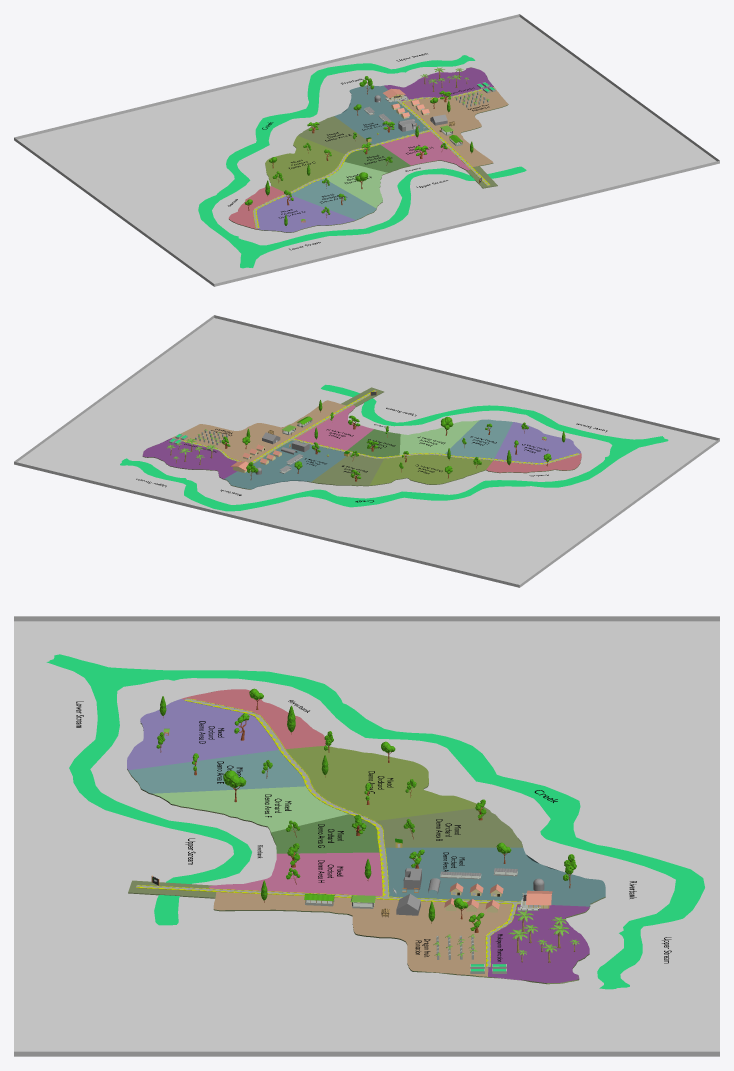
The model's file is map.glb.
The picture shows the model from 3 angles, top to bottom: view 1: azimuth 30°, elevation 25°; view 2: azimuth 150°, elevation 25°; view 3: azimuth 270°, elevation 25°; orthographic projection. The views are drawn at different scales.
Parts seen in each view (by area): view 1: Background, riverbank, dragonFruit, areaA, areaC, areaD, makapuno, areaE, areaH, areaF, areaB, Base (+2 smaller); view 2: Background, riverbank, dragonFruit, areaA, areaC, areaD, makapuno, areaE, areaH, areaF, Base, areaB (+2 smaller); view 3: Background, riverbank, dragonFruit, areaA, areaC, areaD, makapuno, areaE, areaH, areaF, areaB, Base (+3 smaller).
Part boxes in pixels (left/top/right/bottom): Background: left=14, top=14, right=719, bottom=286; riverbank: left=198, top=55, right=526, bottom=268; dragonFruit: left=403, top=87, right=508, bottom=169; areaA: left=334, top=85, right=428, bottom=144; areaC: left=265, top=136, right=344, bottom=191; areaD: left=256, top=195, right=355, bottom=232; makapuno: left=384, top=67, right=493, bottom=100; areaE: left=291, top=178, right=376, bottom=219; areaH: left=380, top=131, right=470, bottom=170; areaF: left=324, top=162, right=387, bottom=208; areaB: left=298, top=116, right=372, bottom=153; Base: left=228, top=67, right=508, bottom=232; Background: left=14, top=315, right=719, bottom=587; riverbank: left=120, top=384, right=668, bottom=511; dragonFruit: left=172, top=400, right=352, bottom=462; areaA: left=224, top=440, right=349, bottom=488; areaC: left=369, top=454, right=492, bottom=485; areaD: left=494, top=422, right=580, bottom=463; makapuno: left=142, top=438, right=237, bottom=478; areaE: left=444, top=419, right=512, bottom=458; areaH: left=295, top=405, right=373, bottom=450; areaF: left=399, top=420, right=478, bottom=454; Base: left=142, top=408, right=581, bottom=489; areaB: left=311, top=453, right=383, bottom=485; Background: left=14, top=616, right=719, bottom=1056; riverbank: left=46, top=654, right=704, bottom=989; dragonFruit: left=213, top=888, right=512, bottom=976; areaA: left=385, top=847, right=605, bottom=906; areaC: left=286, top=745, right=481, bottom=820; areaD: left=127, top=699, right=278, bottom=770; makapuno: left=488, top=904, right=589, bottom=983; areaE: left=128, top=750, right=305, bottom=793; areaH: left=209, top=852, right=382, bottom=896; areaF: left=153, top=786, right=348, bottom=832; areaB: left=375, top=807, right=522, bottom=847; Base: left=127, top=689, right=605, bottom=984.
Bounding box in the file's own units: 8.71 × 0.3632 × 5.97.
